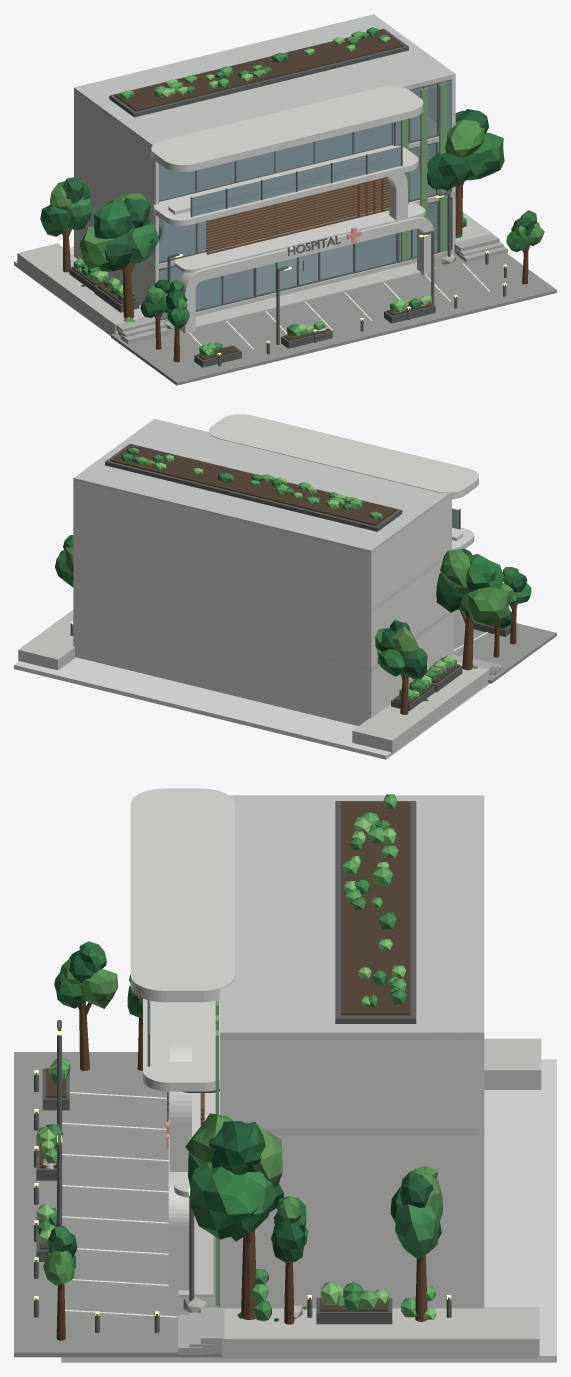
File: clinic_overview.glb
3 views of the same model, one above another, from view 1: azimuth 30°, elevation 25°; view 2: azimuth 150°, elevation 25°; view 3: azimuth 270°, elevation 25° (orthographic). The views are drawn at different scales.
Parts seen in each view (by area): view 1: Front_Parking_Surface, Roof_Slab, Upper_Curved_Canopy, Left_Exterior_Wall, Roof_Garden_Soil, Ground_Rounded_Entrance_Frame, Upper_Balcony_Floor, Left_Side_Walkway, Second_Floor_Projection_Ledge, Floor_1_Slab, Entrance_Walkway, Roof_Garden_Tray (+53 smaller); view 2: Back_Exterior_Wall, Roof_Slab, Left_Exterior_Wall, Site_Base, Upper_Curved_Canopy, Roof_Garden_Soil, Left_Side_Walkway, Front_Parking_Surface, Roof_Garden_Tray, Right_Side_Walkway, TreeFill_LeftMain_1, TreeFill_LeftMain_3 (+7 smaller); view 3: Right_Exterior_Wall, Roof_Slab, Front_Parking_Surface, Upper_Curved_Canopy, Site_Base, Right_Side_Walkway, Roof_Garden_Soil, Upper_Balcony_Floor, TreeFill_RightMain_2, Roof_Garden_Tray, Signature_White_Curve, Left_Side_Walkway (+19 smaller).
Boxes of the visible parts, box(x1,y1,x2,y2) form: Front_Parking_Surface: box(111, 253, 556, 385); Roof_Slab: box(74, 14, 455, 146); Upper_Curved_Canopy: box(151, 86, 423, 171); Left_Exterior_Wall: box(74, 90, 158, 305); Roof_Garden_Soil: box(114, 29, 403, 111); Ground_Rounded_Entrance_Frame: box(179, 216, 433, 333); Upper_Balcony_Floor: box(154, 145, 418, 225); Left_Side_Walkway: box(17, 243, 146, 334); Second_Floor_Projection_Ledge: box(174, 202, 425, 272); Floor_1_Slab: box(161, 245, 453, 322); Entrance_Walkway: box(195, 262, 436, 328); Roof_Garden_Tray: box(109, 28, 408, 117); Back_Exterior_Wall: box(73, 480, 372, 725); Roof_Slab: box(73, 419, 449, 554); Left_Exterior_Wall: box(368, 495, 451, 716); Site_Base: box(14, 657, 489, 759); Upper_Curved_Canopy: box(209, 414, 478, 499); Roof_Garden_Soil: box(110, 444, 396, 525); Left_Side_Walkway: box(352, 661, 489, 753); Front_Parking_Surface: box(453, 609, 556, 683); Roof_Garden_Tray: box(105, 443, 402, 531); Right_Side_Walkway: box(18, 610, 75, 670); TreeFill_LeftMain_1: box(460, 587, 509, 624); TreeFill_LeftMain_3: box(466, 554, 503, 591); Right_Exterior_Wall: box(220, 1036, 482, 1308); Roof_Slab: box(220, 795, 484, 1039); Front_Parking_Surface: box(14, 1052, 222, 1357); Upper_Curved_Canopy: box(130, 788, 234, 1002); Site_Base: box(61, 1059, 556, 1362); Right_Side_Walkway: box(222, 1307, 539, 1358); Roof_Garden_Soil: box(341, 801, 410, 1015); Upper_Balcony_Floor: box(143, 998, 219, 1091); TreeFill_RightMain_2: box(189, 1166, 259, 1239); Roof_Garden_Tray: box(335, 801, 416, 1023); Signature_White_Curve: box(169, 1002, 191, 1171); Left_Side_Walkway: box(484, 1038, 541, 1089).
Size of the model in its own units: 23.51 by 10.81 by 16.43.
